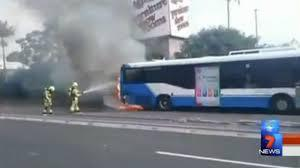fire: (112, 76, 145, 116)
smoke: (0, 1, 151, 104)
